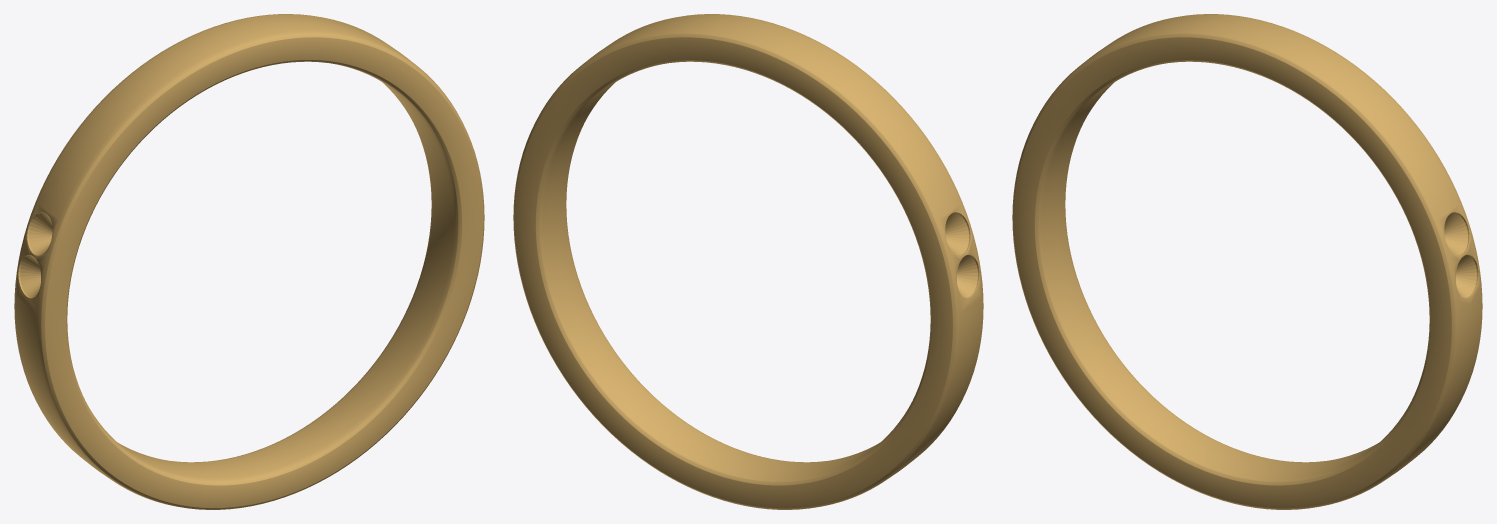
File: flat-pave-multi.glb
3 renders of one model, left to right at view 1: azimuth 30°, elevation 25°; view 2: azimuth 150°, elevation 25°; view 3: azimuth 330°, elevation 25°, orthographic.
Visible parts, largest first — view 1: Band; view 2: Band; view 3: Band.
Part boxes in pixels (bbox=[...]): Band: bbox=[14, 14, 484, 509]; Band: bbox=[513, 14, 983, 509]; Band: bbox=[1012, 14, 1482, 509].
Bounding box in the file's own units: 19.6 × 19.6 × 2.3.
